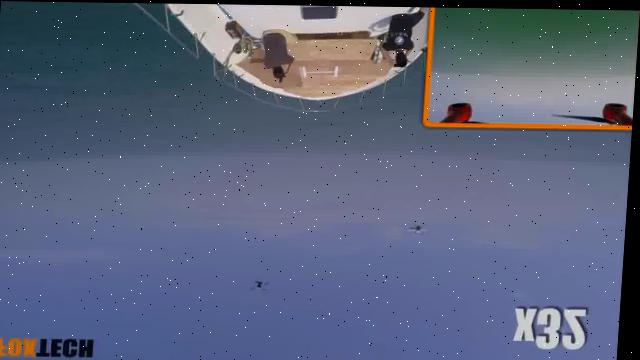drone: (246, 272, 276, 292), (402, 220, 432, 238)
